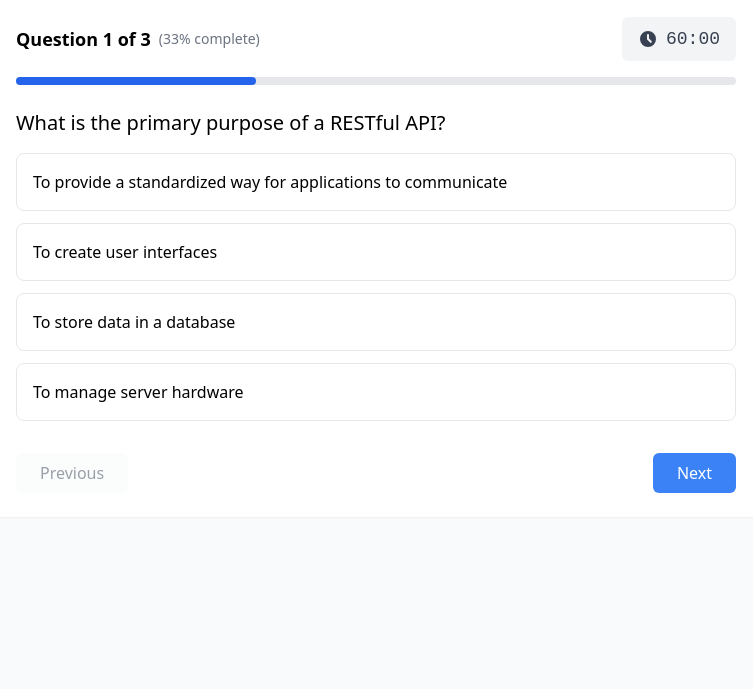
Test: Exam Summary › displays exam summary after completion
Click the text "To provide a standardized way for applications to communicate". click: (376, 182)
box: [16,153,736,211]
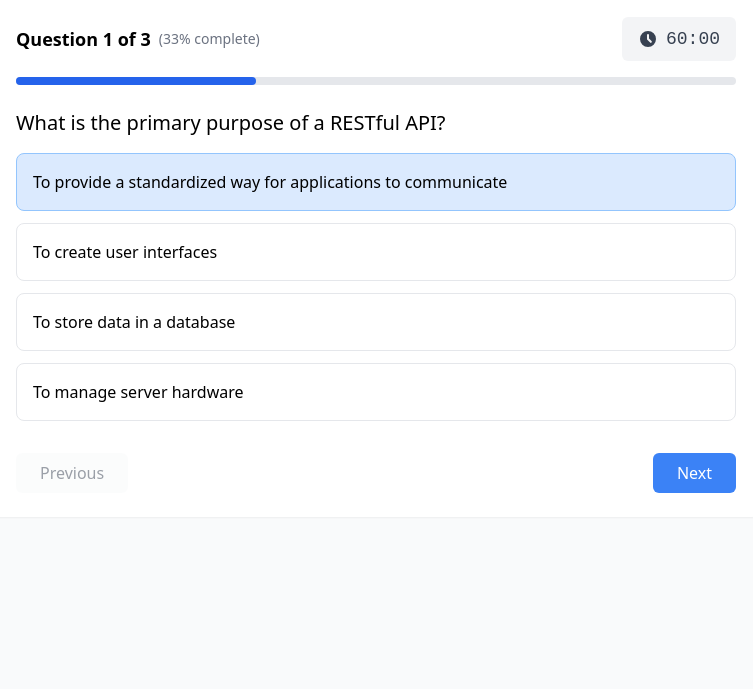
Click the button "Next". click: (694, 473)
box: [653,453,736,493]
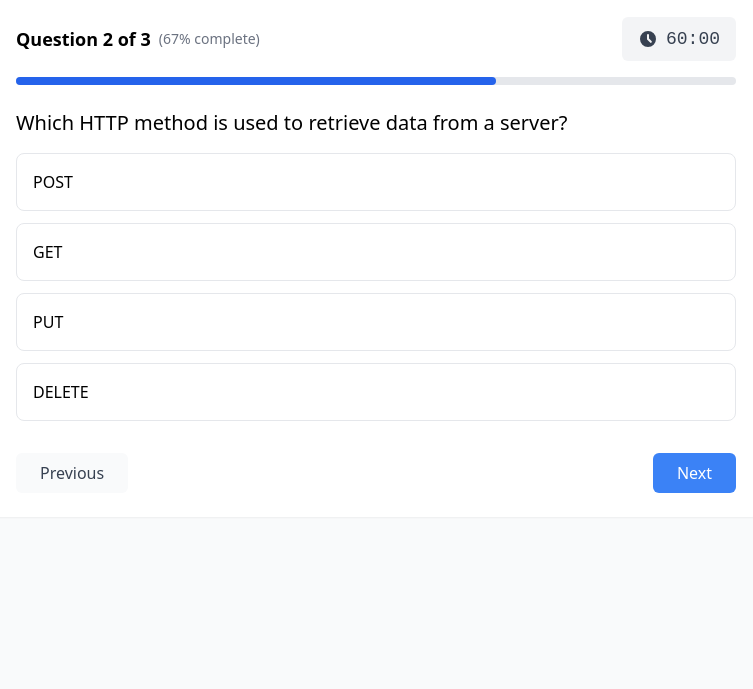
Click the text "POST". click: (376, 182)
box: [16,153,736,211]
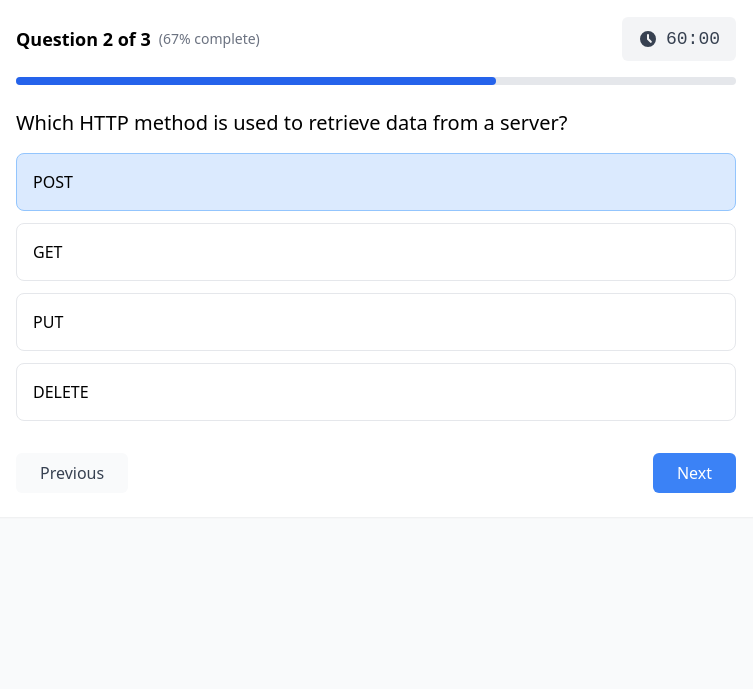
Click the button "Next". click: (694, 473)
box: [653,453,736,493]
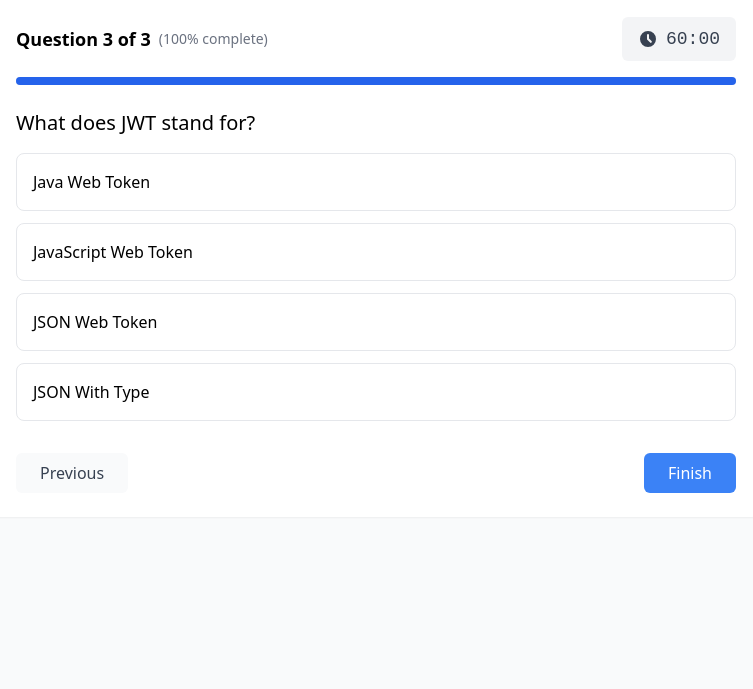
Click the text "Java Web Token". click: (376, 182)
box: [16,153,736,211]
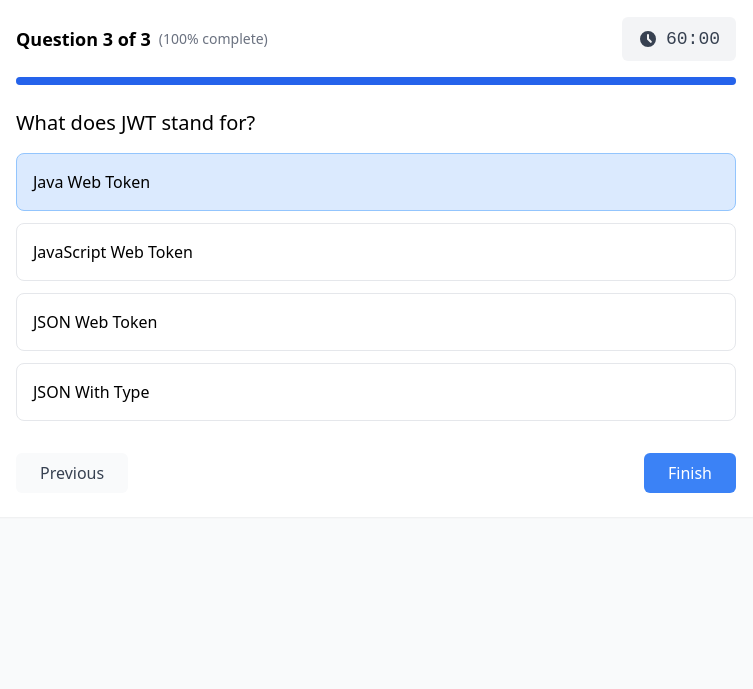
Click the button "Finish". click: (690, 473)
box: [644,453,736,493]
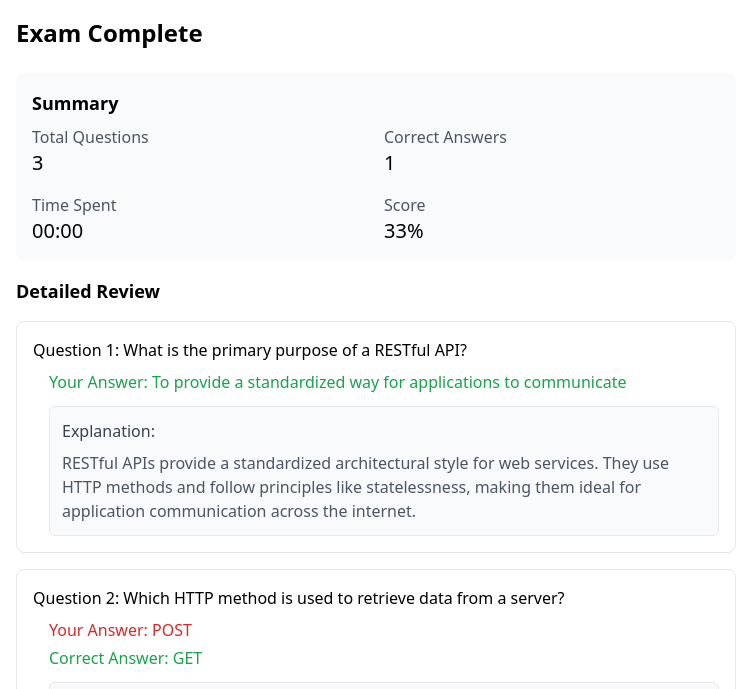
Expected: the heading "Exam Complete" is shown, [16,16,203,49]
Expected: the text "Total Questions" is shown, [32,126,149,148]
Expected: the text "Correct Answers" is shown, [384,126,507,148]
